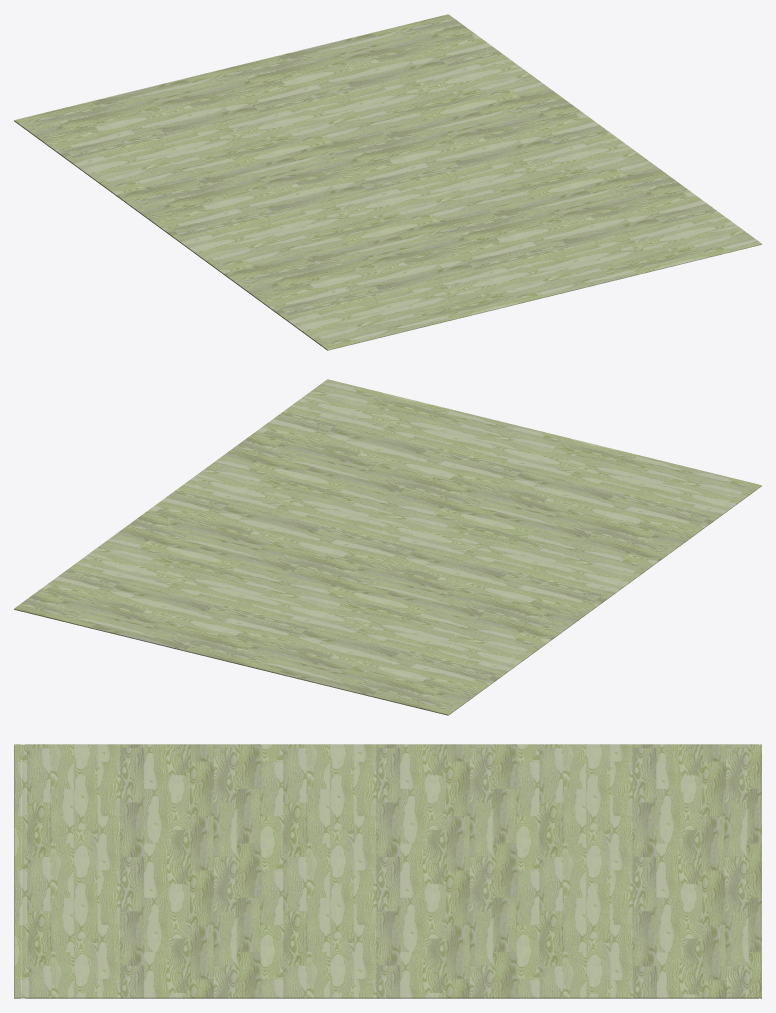
File: Project Name.gltf
3 renders of one model, top to bottom at view 1: azimuth 30°, elevation 25°; view 2: azimuth 150°, elevation 25°; view 3: azimuth 270°, elevation 25°, orthographic. The views are drawn at different scales.
Visible parts, largest first — view 1: 51072_StrellaRug_Grey; view 2: 51072_StrellaRug_Grey; view 3: 51072_StrellaRug_Grey.
Part boxes in pixels (box(x1,y1,x2,y2)): 51072_StrellaRug_Grey: box(14, 14, 761, 350); 51072_StrellaRug_Grey: box(14, 379, 761, 715); 51072_StrellaRug_Grey: box(14, 744, 761, 998).
Size of the model in its own units: 2.44 by 0.00716 by 3.05.
Materials: 1 (1 with a texture image).
